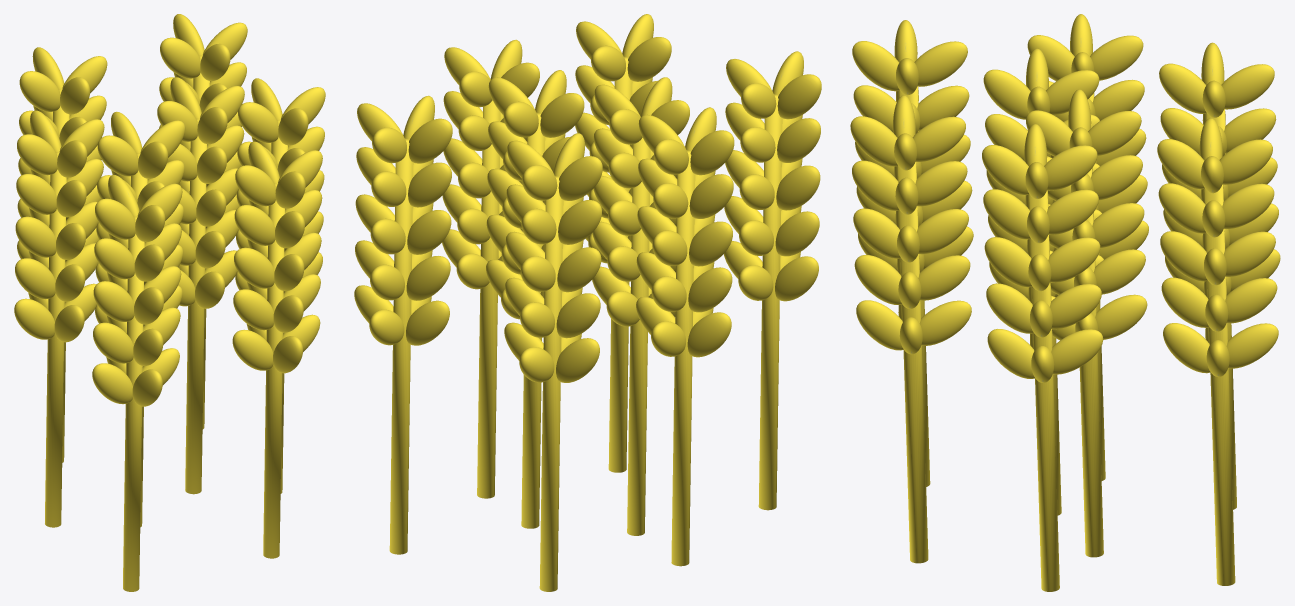
Rendered from WeizenBigger.glb.
3 views of the same model, side by side, from view 1: azimuth 30°, elevation 25°; view 2: azimuth 150°, elevation 25°; view 3: azimuth 270°, elevation 25° (orthographic). The views are drawn at different scales.
Visible parts, largest first — view 1: Weizen; view 2: Weizen; view 3: Weizen.
Boxes of the visible parts, bbox=[...] form: Weizen: bbox=[14, 14, 325, 591]; Weizen: bbox=[354, 14, 821, 591]; Weizen: bbox=[850, 14, 1280, 591].
Bounding box in the file's own units: 0.6799 × 0.9252 × 0.7897.
Materials: 8 (8 with a texture image).
